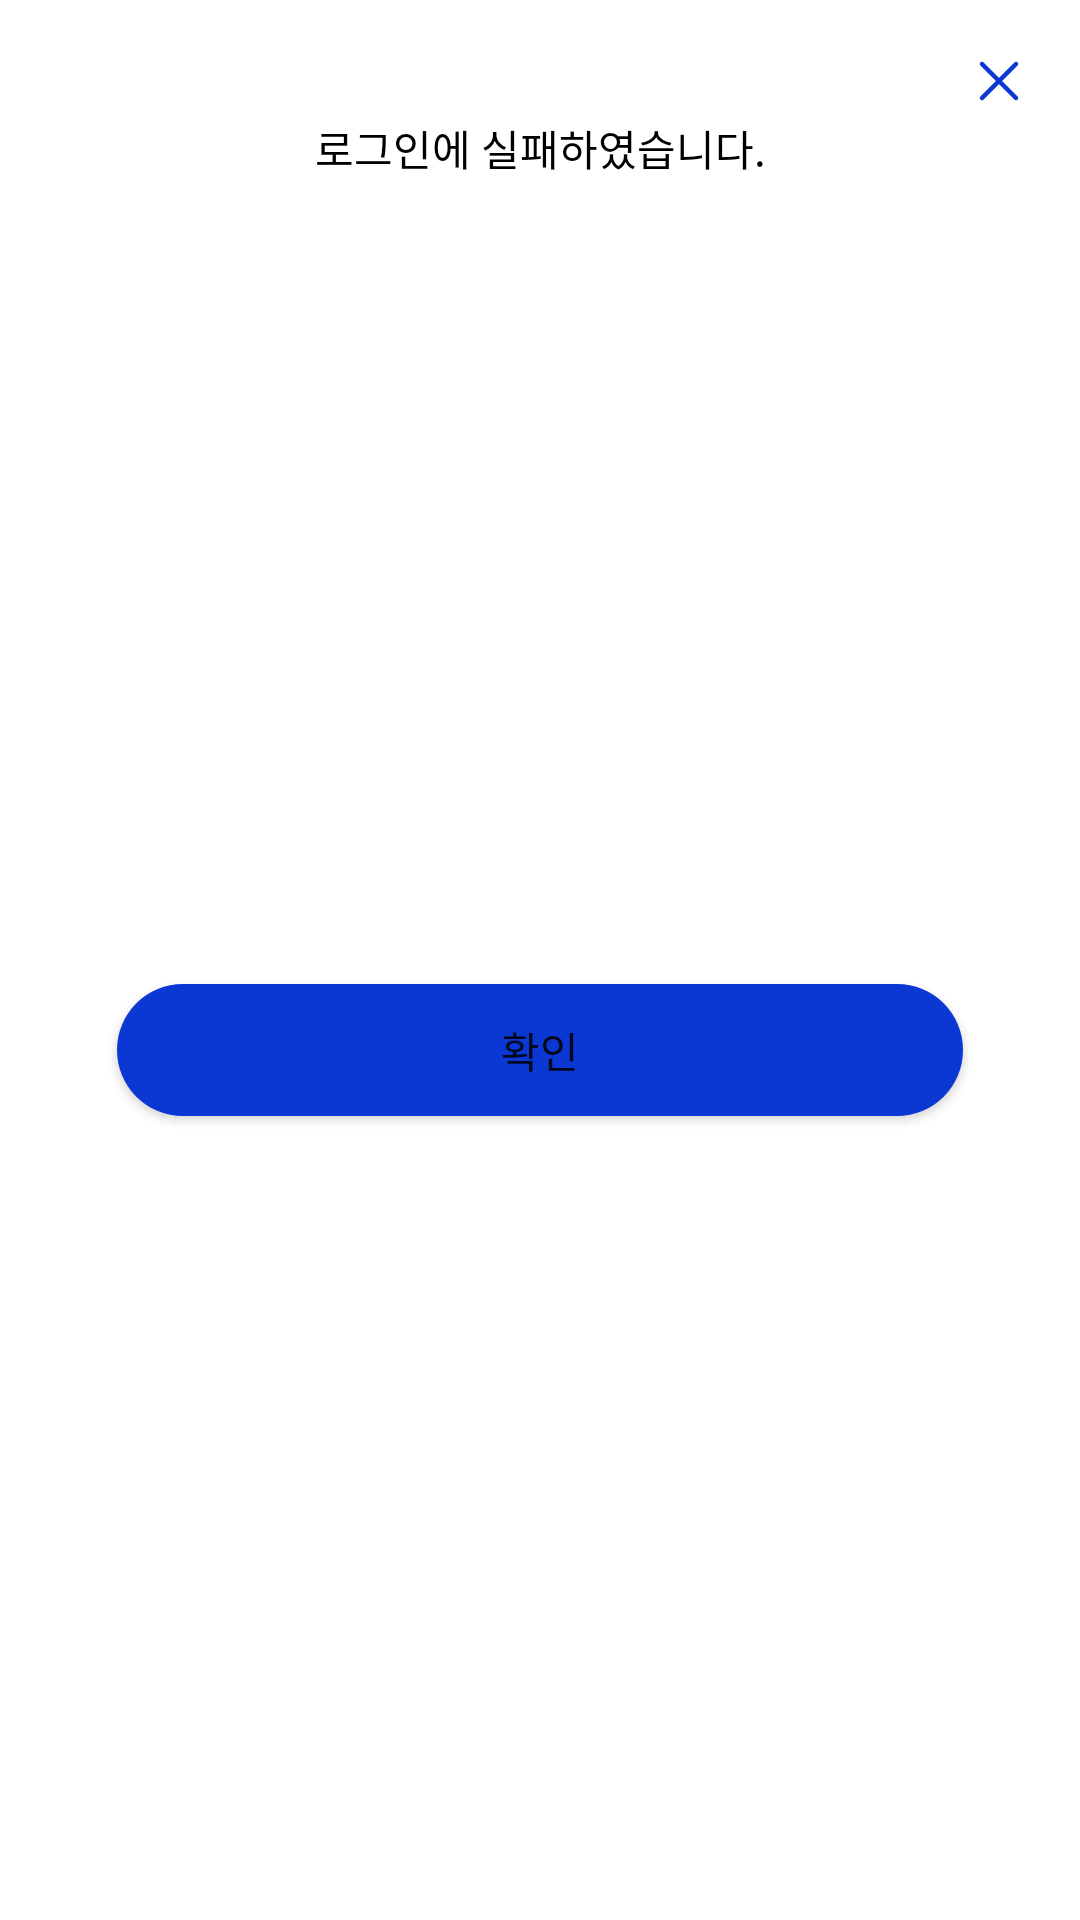

Screen size 1080px×1920px. Icon name, then its center in pixels as (x=x, y=y):
close: (x=999, y=81)
